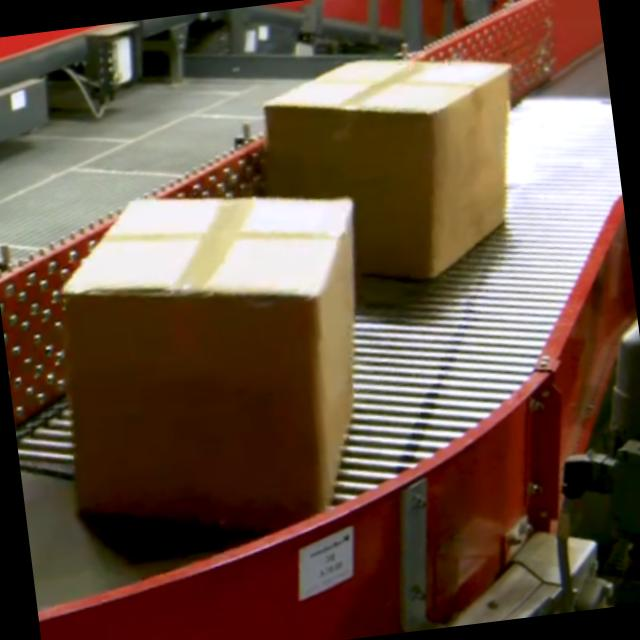box: (37, 173, 391, 549), (258, 41, 535, 300)
